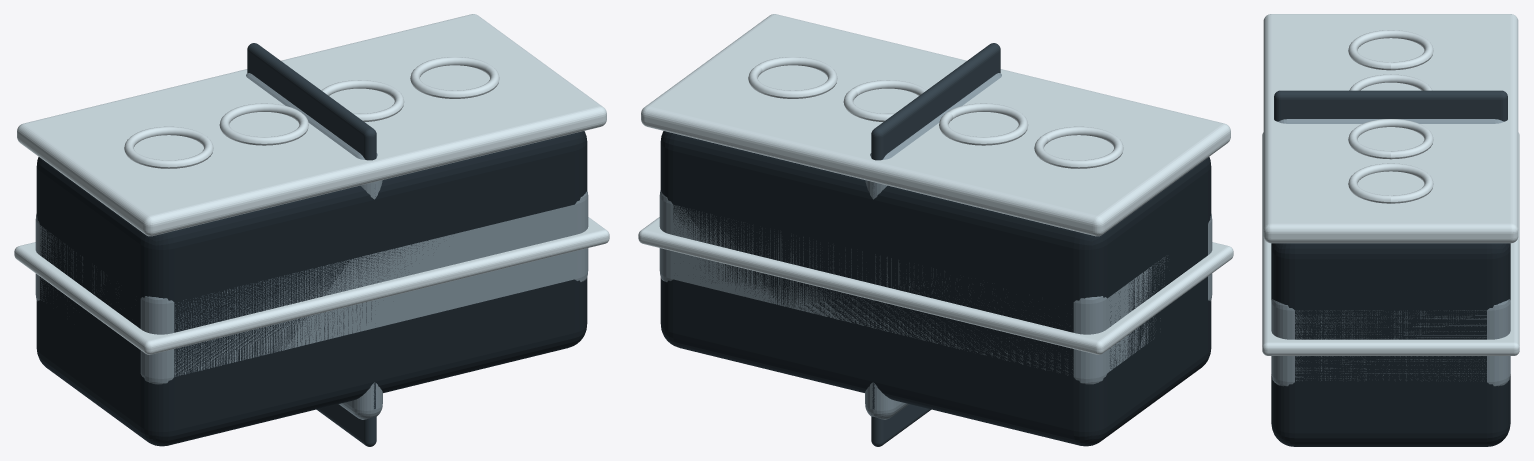
Rendered from g4ed_engine_structure.glb.
3 views of the same model, side by side, from view 1: azimuth 30°, elevation 25°; view 2: azimuth 150°, elevation 25°; view 3: azimuth 270°, elevation 25° (orthographic). The views are drawn at different scales.
Visible parts, largest first — view 1: asset_mesh__g4ed_001__outer_casting, asset_mesh__g4ed_001__machined_deck, asset_mesh__g4ed_018__cylinder_head_casting, asset_mesh__g4ed_009__deck_surface, asset_mesh__g4ed_023__timing_backplate, asset_mesh__g4ed_015__front_housing, asset_mesh__g4ed_001__bore_lip_1, asset_mesh__g4ed_001__bore_lip_2, asset_mesh__g4ed_001__bore_lip_4, asset_mesh__g4ed_001__bore_lip_3; view 2: asset_mesh__g4ed_001__outer_casting, asset_mesh__g4ed_001__machined_deck, asset_mesh__g4ed_018__cylinder_head_casting, asset_mesh__g4ed_009__deck_surface, asset_mesh__g4ed_023__timing_backplate, asset_mesh__g4ed_015__front_housing, asset_mesh__g4ed_001__bore_lip_1, asset_mesh__g4ed_001__bore_lip_2, asset_mesh__g4ed_001__bore_lip_4, asset_mesh__g4ed_001__bore_lip_3; view 3: asset_mesh__g4ed_001__machined_deck, asset_mesh__g4ed_001__outer_casting, asset_mesh__g4ed_009__deck_surface, asset_mesh__g4ed_023__timing_backplate, asset_mesh__g4ed_018__cylinder_head_casting, asset_mesh__g4ed_001__bore_lip_4, asset_mesh__g4ed_001__bore_lip_1, asset_mesh__g4ed_001__bore_lip_3, asset_mesh__g4ed_015__front_housing, asset_mesh__g4ed_001__bore_lip_2.
Boxes of the visible parts, bbox=[...] form: asset_mesh__g4ed_001__outer_casting: bbox=[36, 131, 587, 446]; asset_mesh__g4ed_001__machined_deck: bbox=[17, 14, 606, 236]; asset_mesh__g4ed_018__cylinder_head_casting: bbox=[35, 190, 588, 384]; asset_mesh__g4ed_009__deck_surface: bbox=[14, 217, 609, 354]; asset_mesh__g4ed_023__timing_backplate: bbox=[247, 43, 376, 446]; asset_mesh__g4ed_015__front_housing: bbox=[246, 73, 382, 419]; asset_mesh__g4ed_001__bore_lip_1: bbox=[124, 126, 213, 168]; asset_mesh__g4ed_001__bore_lip_2: bbox=[219, 103, 308, 145]; asset_mesh__g4ed_001__bore_lip_4: bbox=[410, 57, 499, 98]; asset_mesh__g4ed_001__bore_lip_3: bbox=[321, 80, 404, 121]; asset_mesh__g4ed_001__outer_casting: bbox=[660, 131, 1211, 446]; asset_mesh__g4ed_001__machined_deck: bbox=[641, 14, 1230, 236]; asset_mesh__g4ed_018__cylinder_head_casting: bbox=[659, 190, 1212, 384]; asset_mesh__g4ed_009__deck_surface: bbox=[638, 217, 1233, 354]; asset_mesh__g4ed_023__timing_backplate: bbox=[871, 43, 1000, 446]; asset_mesh__g4ed_015__front_housing: bbox=[865, 73, 1001, 419]; asset_mesh__g4ed_001__bore_lip_1: bbox=[1034, 126, 1123, 168]; asset_mesh__g4ed_001__bore_lip_2: bbox=[939, 103, 1028, 145]; asset_mesh__g4ed_001__bore_lip_4: bbox=[748, 57, 837, 98]; asset_mesh__g4ed_001__bore_lip_3: bbox=[843, 80, 926, 121]; asset_mesh__g4ed_001__machined_deck: bbox=[1263, 14, 1518, 243]; asset_mesh__g4ed_001__outer_casting: bbox=[1271, 243, 1510, 446]; asset_mesh__g4ed_009__deck_surface: bbox=[1262, 132, 1519, 355]; asset_mesh__g4ed_023__timing_backplate: bbox=[1274, 90, 1507, 121]; asset_mesh__g4ed_018__cylinder_head_casting: bbox=[1271, 299, 1510, 386]; asset_mesh__g4ed_001__bore_lip_4: bbox=[1348, 163, 1433, 203]; asset_mesh__g4ed_001__bore_lip_1: bbox=[1348, 30, 1433, 70]; asset_mesh__g4ed_001__bore_lip_3: bbox=[1348, 119, 1433, 159]; asset_mesh__g4ed_015__front_housing: bbox=[1278, 119, 1503, 123]; asset_mesh__g4ed_001__bore_lip_2: bbox=[1349, 74, 1432, 90].
Size of the model in its own units: 3.9 by 2.55 by 1.96.
